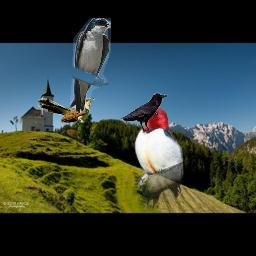Crow: (120, 92, 168, 131)
Cuckoo: (38, 98, 95, 123)
Swallow: (70, 18, 111, 113)
Woodpecker: (132, 107, 185, 213)
